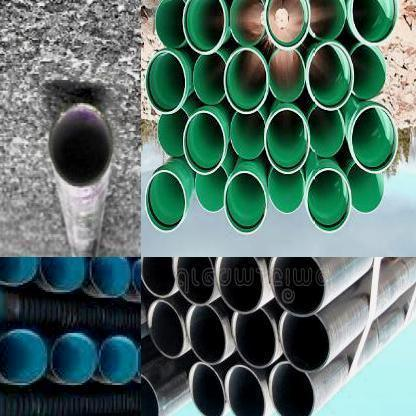pipe: (50, 101, 113, 190), (268, 257, 326, 317), (350, 104, 398, 173), (264, 104, 310, 173), (306, 166, 352, 234), (224, 47, 270, 114), (279, 313, 331, 372), (0, 327, 50, 388), (48, 330, 100, 386), (223, 170, 268, 234), (182, 110, 226, 174), (215, 257, 264, 314), (144, 168, 186, 233), (232, 310, 277, 368), (186, 303, 228, 365), (268, 361, 315, 416), (146, 50, 186, 113), (263, 0, 311, 49), (182, 0, 225, 53), (95, 332, 137, 385), (224, 365, 266, 416), (348, 44, 386, 100), (148, 300, 184, 358), (268, 46, 305, 102), (172, 257, 215, 305), (307, 104, 345, 158), (189, 362, 226, 416), (351, 0, 397, 43), (346, 162, 384, 213), (87, 257, 132, 300), (36, 257, 87, 293), (230, 110, 266, 160), (194, 52, 226, 106), (268, 166, 304, 214), (229, 0, 265, 46), (194, 165, 228, 212), (308, 0, 346, 41), (157, 108, 189, 156), (155, 0, 186, 48), (141, 257, 176, 298), (0, 257, 36, 287), (141, 372, 160, 416), (131, 258, 141, 306)
